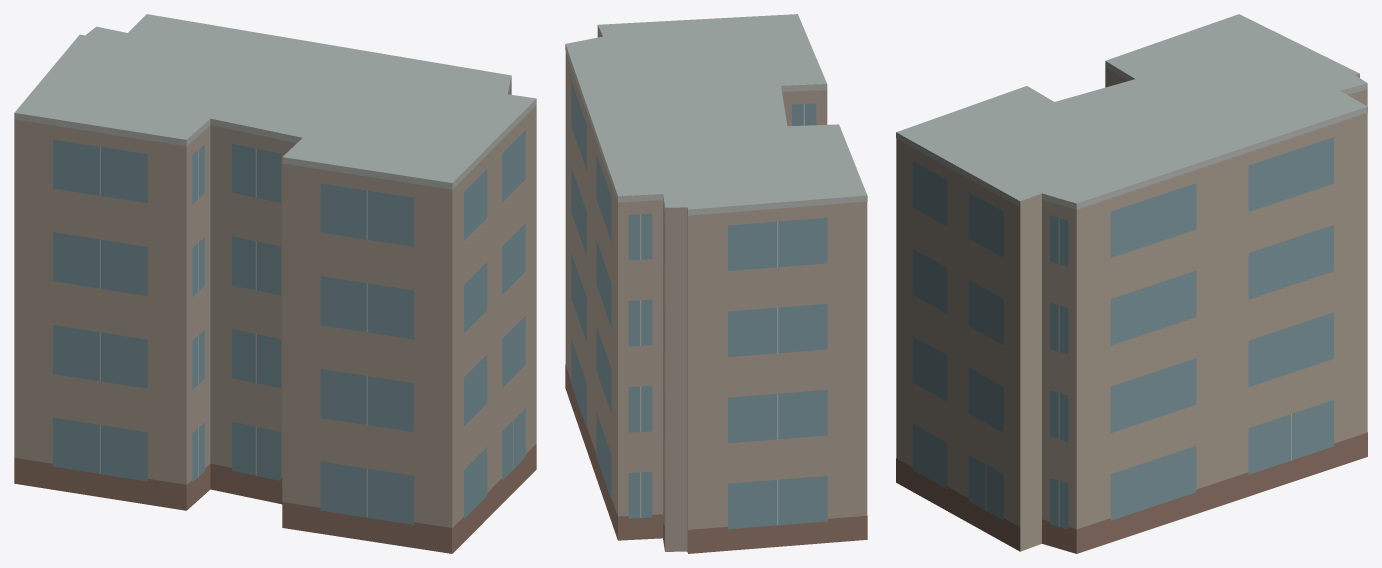
Rendered from survey-upis-32778280.glb.
The picture shows the model from 3 angles, left to right: view 1: azimuth 30°, elevation 25°; view 2: azimuth 150°, elevation 25°; view 3: azimuth 270°, elevation 25°; orthographic projection. The views are drawn at different scales.
Visible parts, largest first — view 1: survey-upis-32778280.tmp; view 2: survey-upis-32778280.tmp; view 3: survey-upis-32778280.tmp.
Part boxes in pixels (left/top/right/bottom): survey-upis-32778280.tmp: left=14, top=14, right=536, bottom=553; survey-upis-32778280.tmp: left=565, top=14, right=867, bottom=553; survey-upis-32778280.tmp: left=896, top=14, right=1367, bottom=553.
Bounding box in the file's own units: 16.14 × 13.9 × 16.97.
